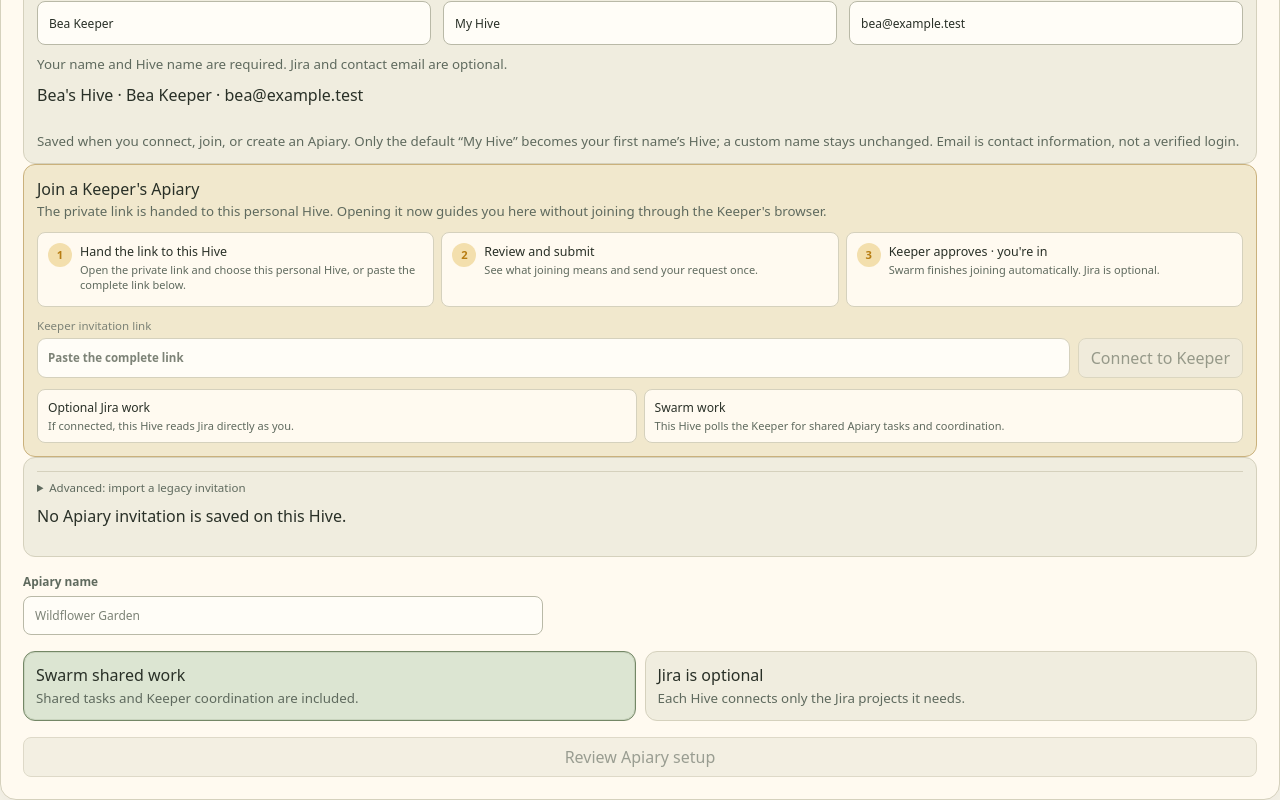
Test case: creates Apiary after saving its reviewed profile; refresh fails=false
This screenshot has width=1280, height=800.
(page scrolled)
Expected: the text "Jira is optional" is shown, [658,664,764,686]
Expected: the field showing "Bea Keeper" is shown, [37,1,431,45]
Type "  Wildflower Garden  " into the field labelled "Apiary name" at (283, 616), box [23,596,543,635]
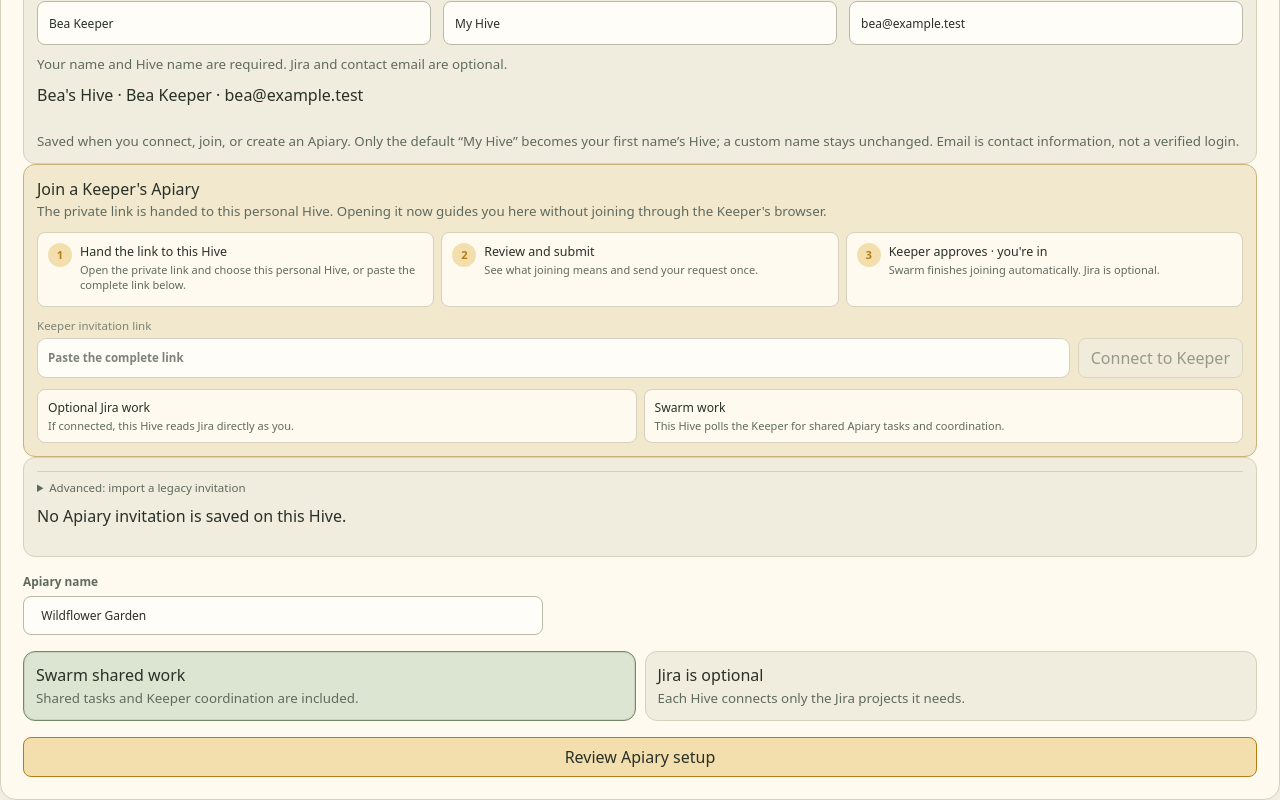
Expected: the button "Review Apiary setup" is enabled
Click the button "Review Apiary setup" at (640, 757), box [23,737,1257,777]
(page scrolled)
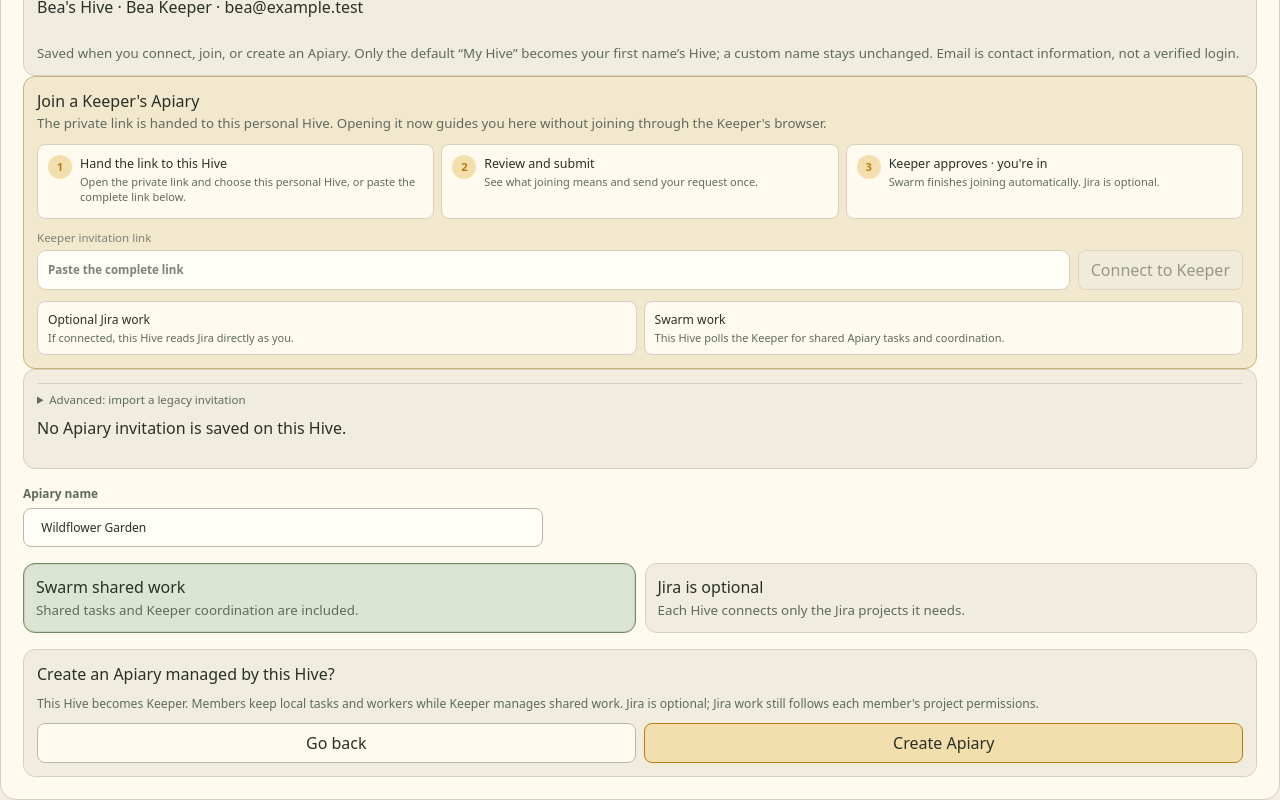
Expected: the element named "Confirm Apiary setup" shows "Members keep local tasks and workers", [37,695,1039,712]
Click the button "Create Apiary" at (944, 743), box [644,723,1243,763]
(page scrolled)
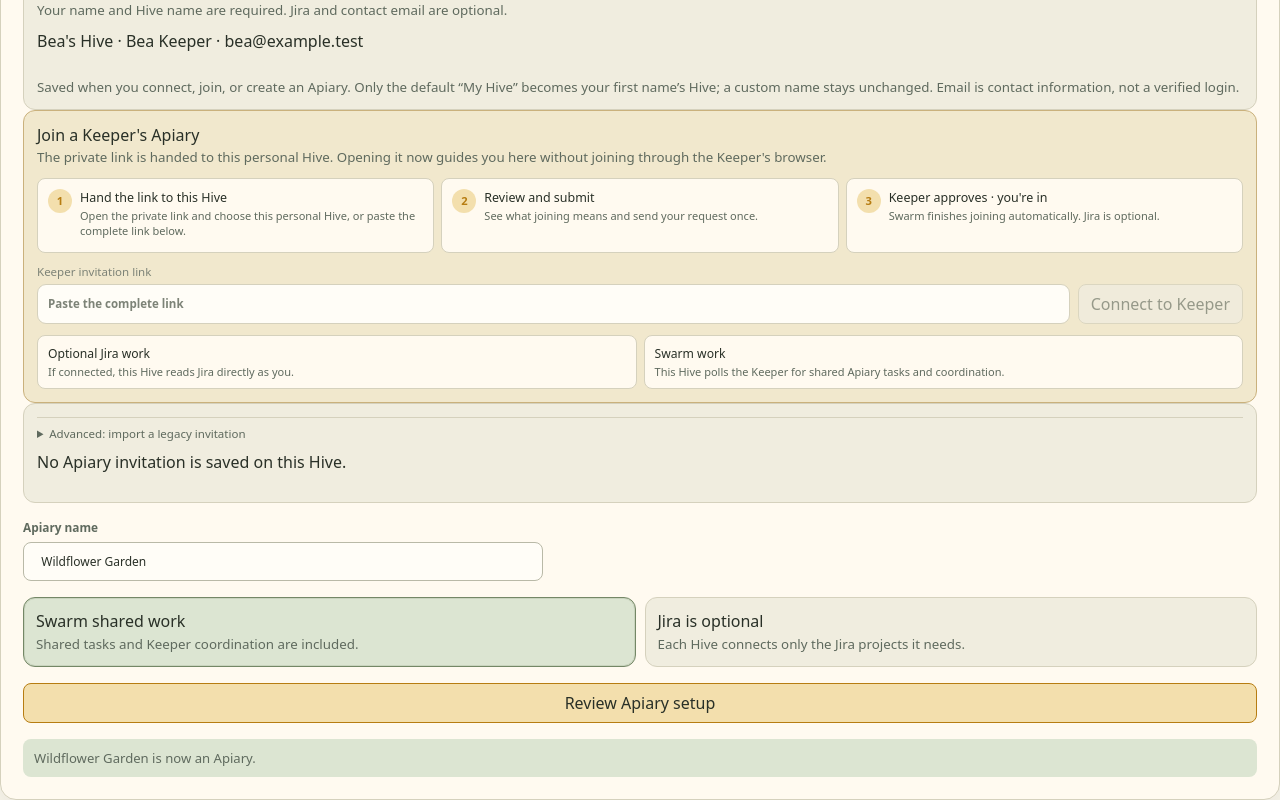
Expected: the button "Create Apiary" is gone
